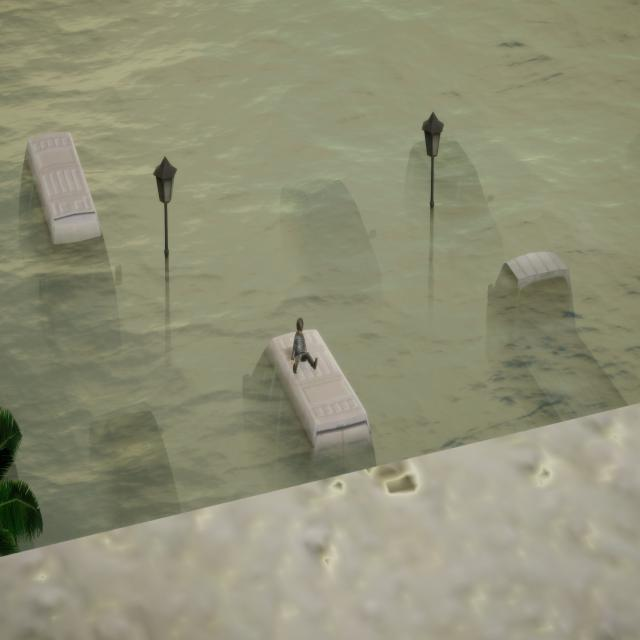Human: (282, 315, 319, 384)
